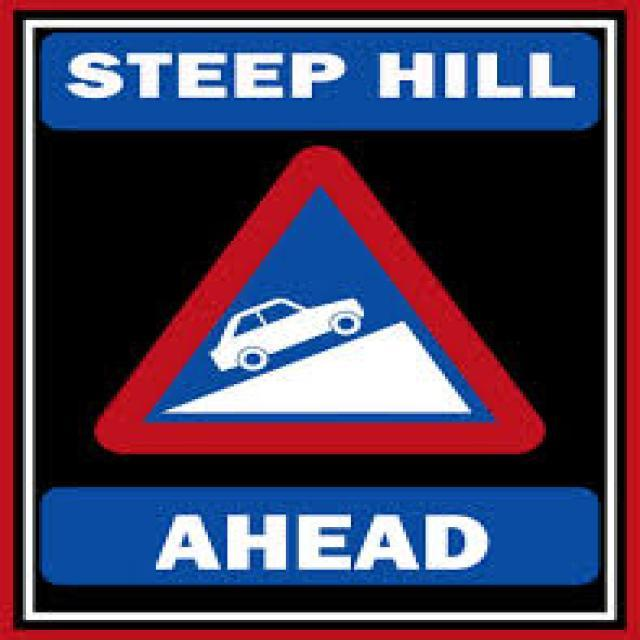steep ascent: (95, 143, 545, 458)
